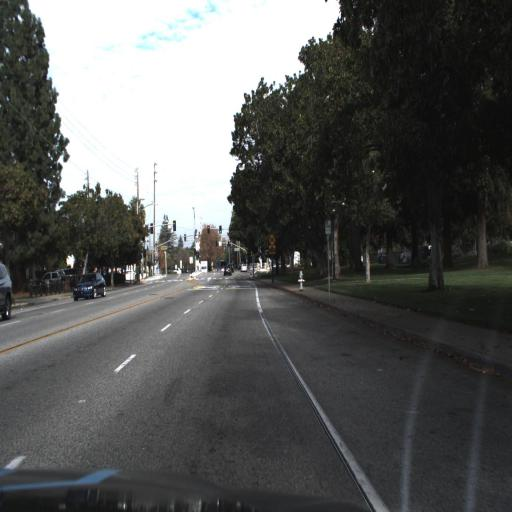car: (0, 247, 14, 324), (73, 271, 107, 301), (219, 261, 233, 281), (237, 259, 246, 277)
trafficLight-Green: (216, 223, 222, 236)
